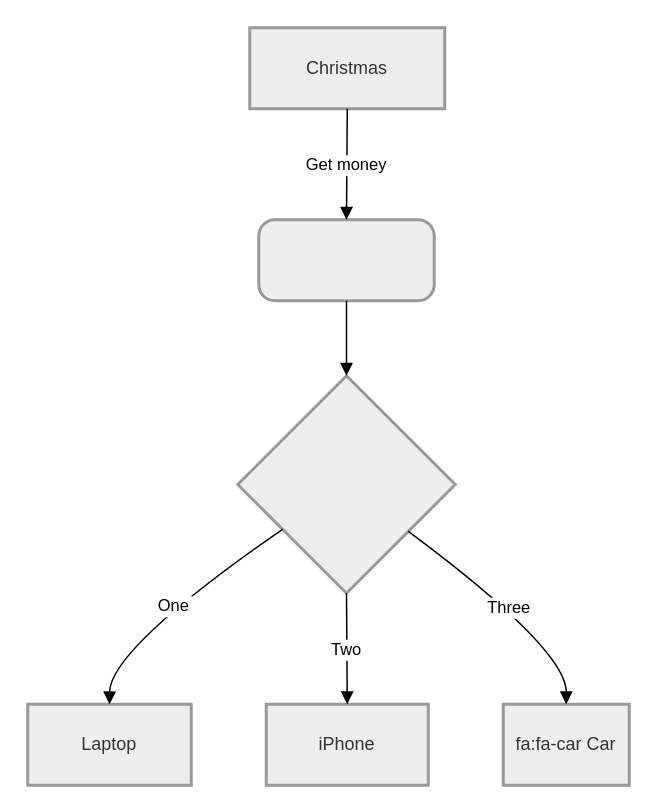
Image size: 656x812. Some labels were removed from this diagram. Here are the shapes that lost their labels. From the top down, the box of each, then its label:
(256, 218, 435, 302): Go shopping
(236, 374, 456, 594): Let me think
